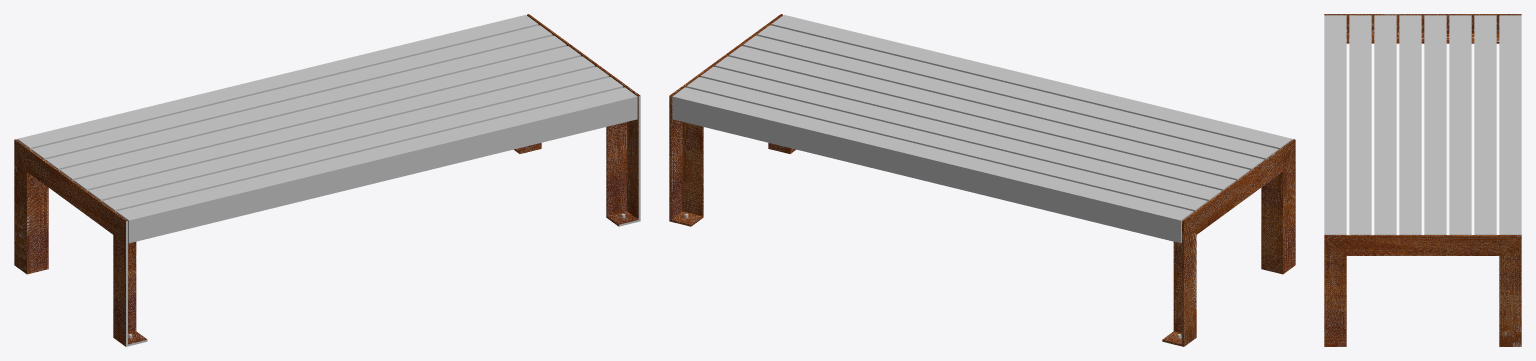
3 renders of one model, left to right at view 1: azimuth 30°, elevation 25°; view 2: azimuth 150°, elevation 25°; view 3: azimuth 270°, elevation 25°, orthographic. The views are drawn at different scales.
Parts seen in each view (by area): view 1: mesh4_mesh4-geometry, mesh17_mesh17-geometry, mesh2_mesh2-geometry, mesh6_mesh6-geometry, mesh7_mesh7-geometry, mesh8_mesh8-geometry, mesh3_mesh3-geometry, mesh5_mesh5-geometry, mesh9_mesh9-geometry, mesh11_mesh11-geometry; view 2: mesh7_mesh7-geometry, mesh17_mesh17-geometry, mesh6_mesh6-geometry, mesh8_mesh8-geometry, mesh9_mesh9-geometry, mesh5_mesh5-geometry, mesh2_mesh2-geometry, mesh3_mesh3-geometry, mesh4_mesh4-geometry, mesh11_mesh11-geometry; view 3: mesh11_mesh11-geometry, mesh2_mesh2-geometry, mesh3_mesh3-geometry, mesh4_mesh4-geometry, mesh5_mesh5-geometry, mesh6_mesh6-geometry, mesh7_mesh7-geometry, mesh8_mesh8-geometry, mesh9_mesh9-geometry, mesh17_mesh17-geometry.
Boxes of the visible parts, box(x1,y1,x2,y2) form: mesh4_mesh4-geometry: box(116, 87, 637, 243); mesh17_mesh17-geometry: box(14, 139, 147, 346); mesh2_mesh2-geometry: box(31, 25, 552, 160); mesh6_mesh6-geometry: box(45, 35, 566, 170); mesh7_mesh7-geometry: box(17, 15, 538, 149); mesh8_mesh8-geometry: box(88, 66, 609, 201); mesh3_mesh3-geometry: box(74, 56, 594, 191); mesh5_mesh5-geometry: box(60, 46, 580, 180); mesh9_mesh9-geometry: box(102, 77, 623, 211); mesh11_mesh11-geometry: box(514, 14, 640, 226); mesh7_mesh7-geometry: box(672, 87, 1193, 243); mesh17_mesh17-geometry: box(1162, 139, 1295, 346); mesh6_mesh6-geometry: box(700, 66, 1221, 201); mesh8_mesh8-geometry: box(743, 35, 1264, 170); mesh9_mesh9-geometry: box(757, 25, 1278, 160); mesh5_mesh5-geometry: box(715, 56, 1235, 191); mesh2_mesh2-geometry: box(686, 77, 1207, 211); mesh3_mesh3-geometry: box(729, 46, 1249, 180); mesh4_mesh4-geometry: box(771, 15, 1292, 149); mesh11_mesh11-geometry: box(669, 14, 795, 226); mesh11_mesh11-geometry: box(1324, 235, 1521, 346); mesh2_mesh2-geometry: box(1474, 15, 1496, 234); mesh3_mesh3-geometry: box(1399, 15, 1421, 234); mesh4_mesh4-geometry: box(1324, 15, 1346, 234); mesh5_mesh5-geometry: box(1424, 15, 1446, 234); mesh6_mesh6-geometry: box(1449, 15, 1471, 234); mesh7_mesh7-geometry: box(1499, 15, 1521, 234); mesh8_mesh8-geometry: box(1374, 15, 1396, 234); mesh9_mesh9-geometry: box(1349, 15, 1371, 234); mesh17_mesh17-geometry: box(1324, 14, 1521, 43).
Size of the model in its own units: 0.914 by 0.216 by 0.3434.
